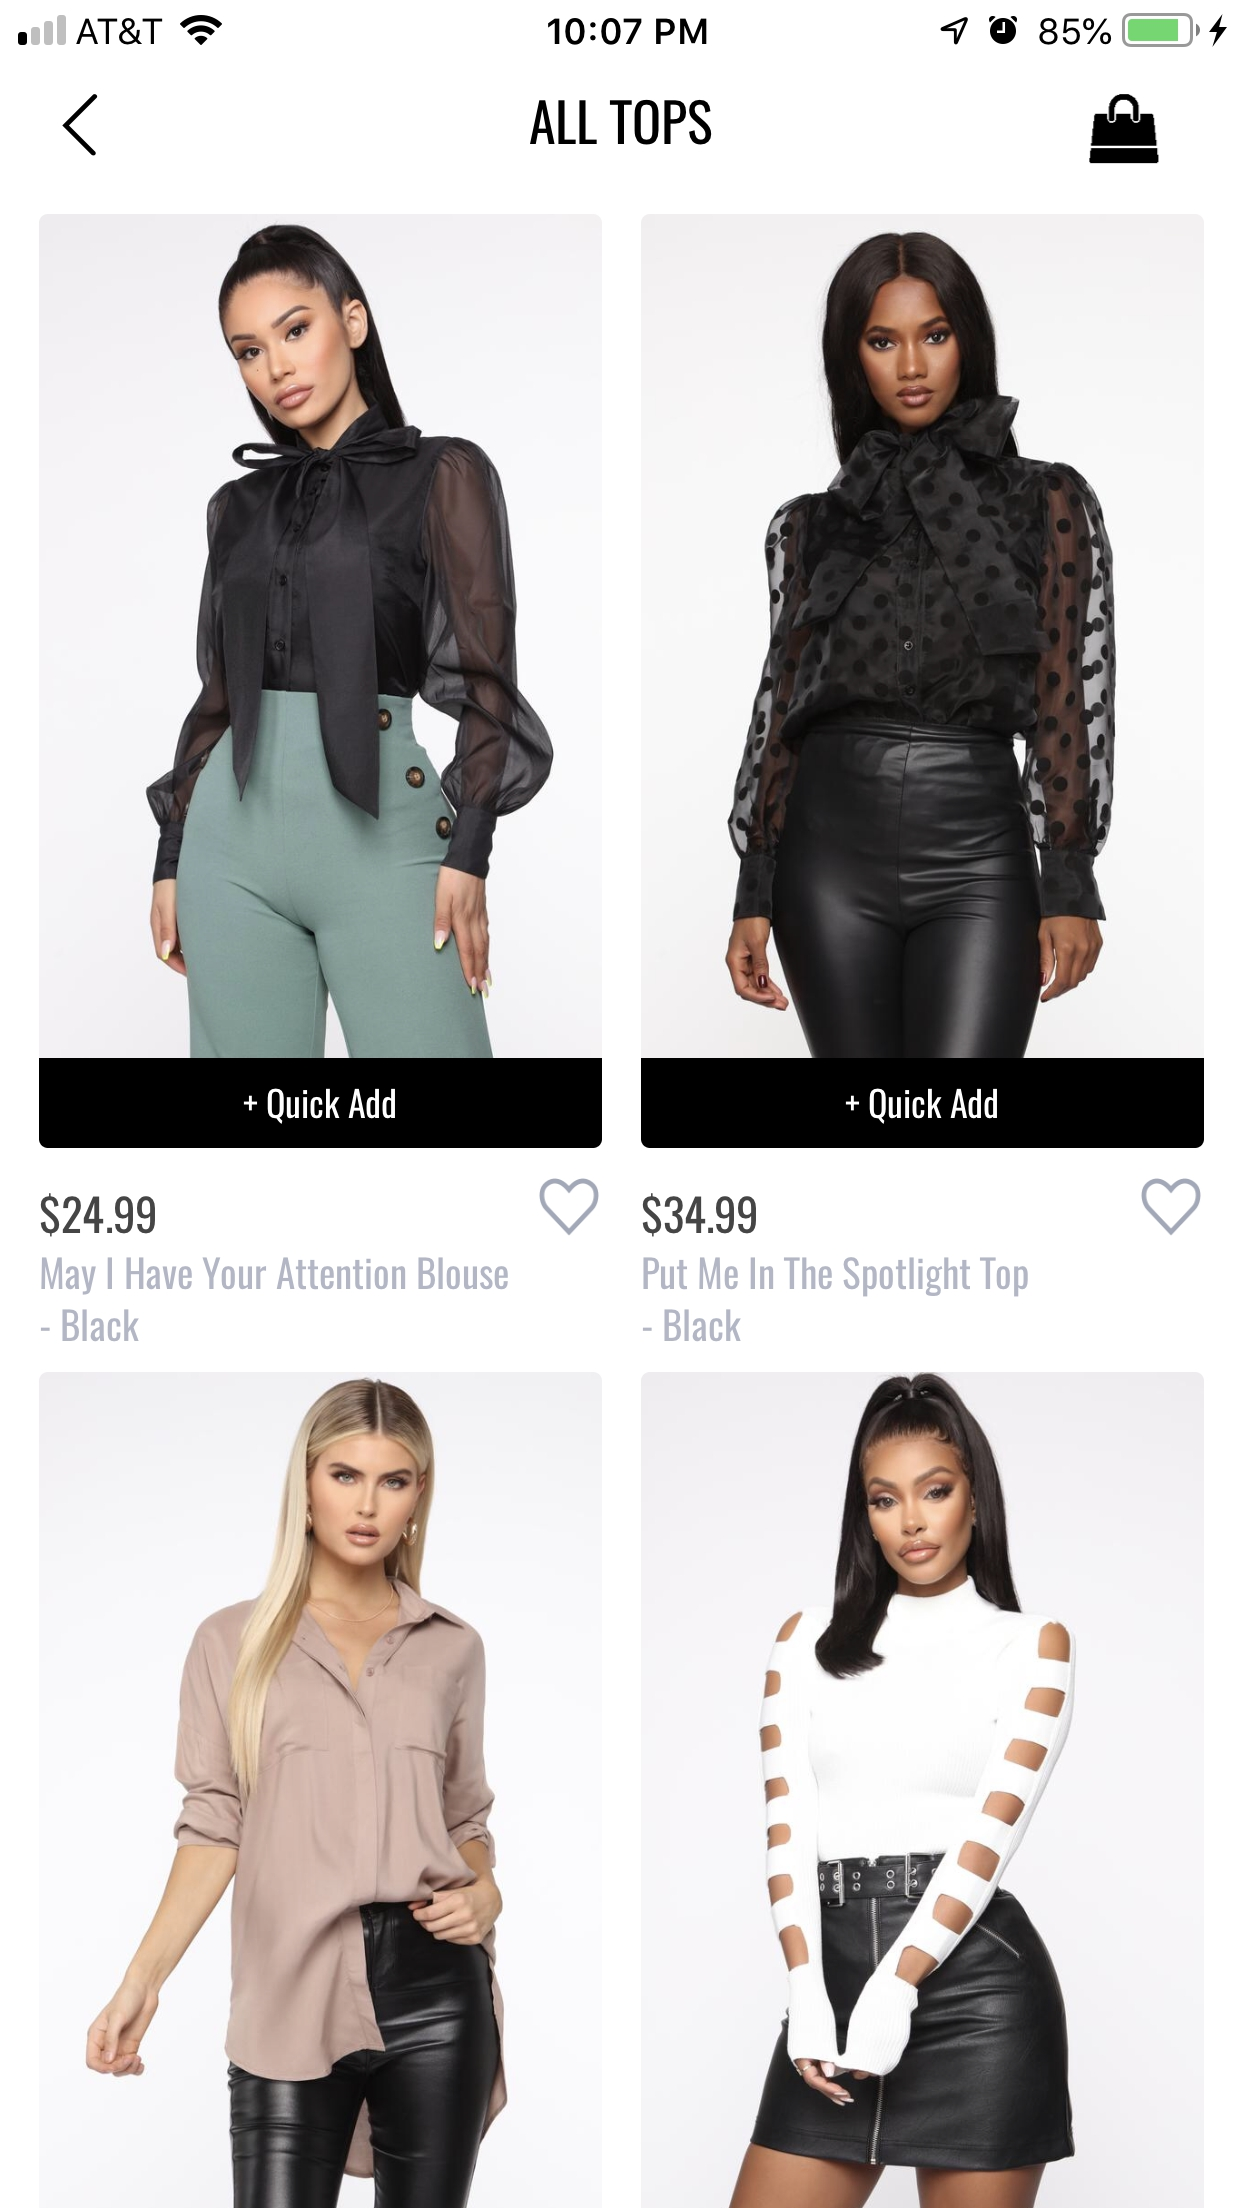Icon: (1087, 94, 1160, 165), (538, 1178, 601, 1237), (1140, 1177, 1201, 1236), (62, 94, 99, 158)
Image: (641, 215, 1206, 1059), (39, 215, 604, 1059), (641, 1372, 1206, 2208), (39, 1372, 604, 2208)
Text: (39, 1256, 510, 1342), (641, 1256, 1030, 1344), (529, 99, 713, 146), (41, 1193, 158, 1237), (641, 1193, 757, 1237)
TextButton: (641, 1059, 1206, 1149), (39, 1059, 604, 1149)
UpperTaskBar: (2, 2, 1242, 49)
